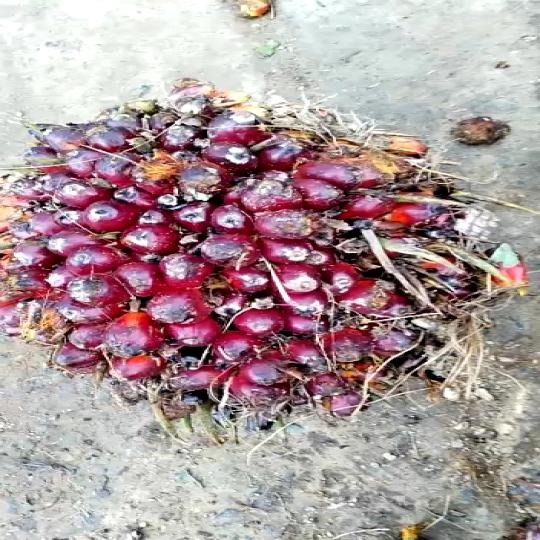masak: (0, 83, 526, 434)
